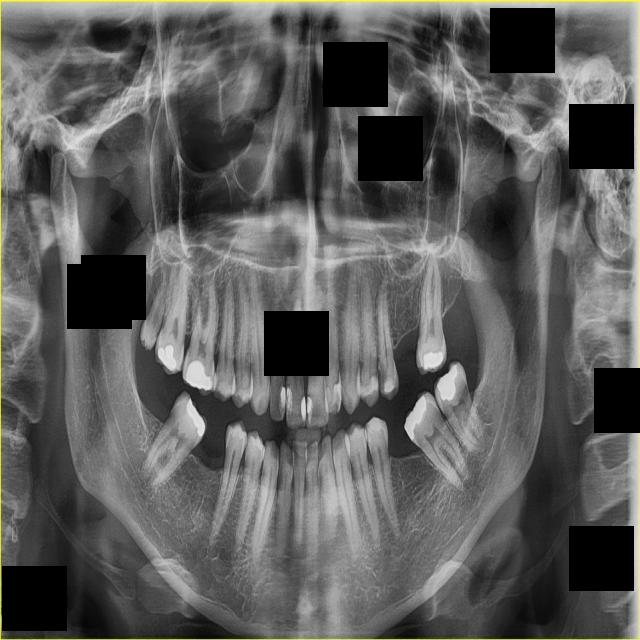NucleOSS Implant: (399, 392, 431, 440), (178, 356, 215, 397), (181, 398, 209, 436), (435, 363, 459, 401), (157, 344, 176, 373), (423, 351, 444, 369)
Sterngold Implant: (376, 358, 389, 392), (366, 354, 379, 380)
Straumann Implant: (324, 368, 342, 413), (379, 376, 396, 394), (368, 376, 381, 397), (367, 416, 383, 433), (286, 384, 293, 421), (279, 384, 286, 416), (306, 395, 313, 424), (300, 396, 306, 422)
